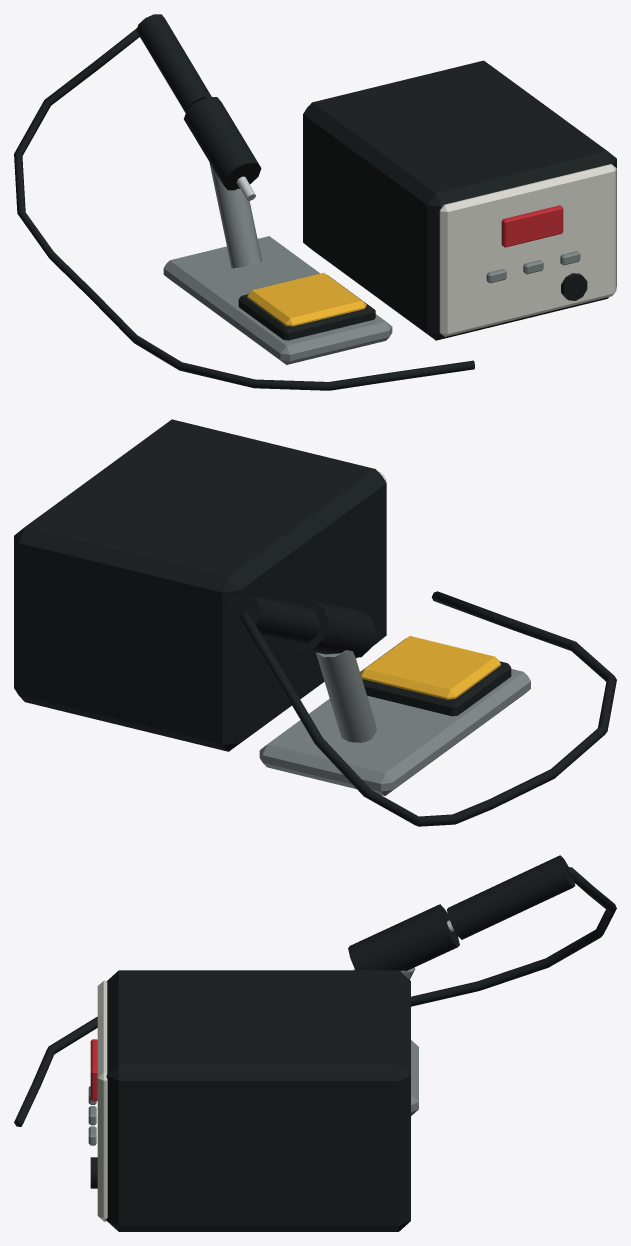
Rendered from lod2_source.glb.
3 views of the same model, one above another, from view 1: azimuth 30°, elevation 25°; view 2: azimuth 150°, elevation 25°; view 3: azimuth 270°, elevation 25° (orthographic). The views are drawn at different scales.
Parts seen in each view (by area): view 1: Controller black enclosure, Pale controller fascia, Independent iron stand base, Unconnected resting iron cable, Yellow cleaning sponge, Iron holder sleeve, Iron dark handle, Stand angled stem, Sponge recess, Unlit red display window, Lower socket outer ring; view 2: Controller black enclosure, Independent iron stand base, Unconnected resting iron cable, Yellow cleaning sponge, Stand angled stem, Iron dark handle, Iron holder sleeve, Sponge recess; view 3: Controller black enclosure, Iron dark handle, Iron holder sleeve, Unconnected resting iron cable, Pale controller fascia, Independent iron stand base.
Part boxes in pixels (left/top/right/bottom): Controller black enclosure: left=303, top=60, right=616, bottom=340; Pale controller fascia: left=439, top=164, right=616, bottom=336; Independent iron stand base: left=163, top=236, right=392, bottom=364; Unconnected resting iron cable: left=14, top=28, right=474, bottom=390; Yellow cleaning sponge: left=247, top=273, right=366, bottom=326; Iron holder sleeve: left=184, top=97, right=261, bottom=190; Iron dark handle: left=136, top=14, right=211, bottom=112; Stand angled stem: left=209, top=162, right=262, bottom=268; Sponge recess: left=238, top=275, right=375, bottom=340; Unlit red display window: left=501, top=205, right=563, bottom=247; Lower socket outer ring: left=561, top=273, right=587, bottom=300; Controller black enclosure: left=14, top=419, right=386, bottom=751; Independent iron stand base: left=259, top=669, right=530, bottom=795; Unconnected resting iron cable: left=239, top=591, right=616, bottom=826; Yellow cleaning sponge: left=360, top=636, right=500, bottom=699; Stand angled stem: left=316, top=650, right=376, bottom=742; Iron dark handle: left=227, top=595, right=319, bottom=643; Iron holder sleeve: left=289, top=600, right=375, bottom=657; Sponge recess: left=360, top=638, right=511, bottom=716; Controller black enclosure: left=106, top=970, right=410, bottom=1231; Iron dark handle: left=447, top=855, right=575, bottom=939; Iron holder sleeve: left=348, top=904, right=459, bottom=970; Unconnected resting iron cable: left=14, top=867, right=616, bottom=1126; Pale controller fascia: left=97, top=980, right=107, bottom=1221; Independent iron stand base: left=411, top=1040, right=418, bottom=1115.
Bounding box in the file's own units: 0.2674 × 0.1297 × 0.3013.
